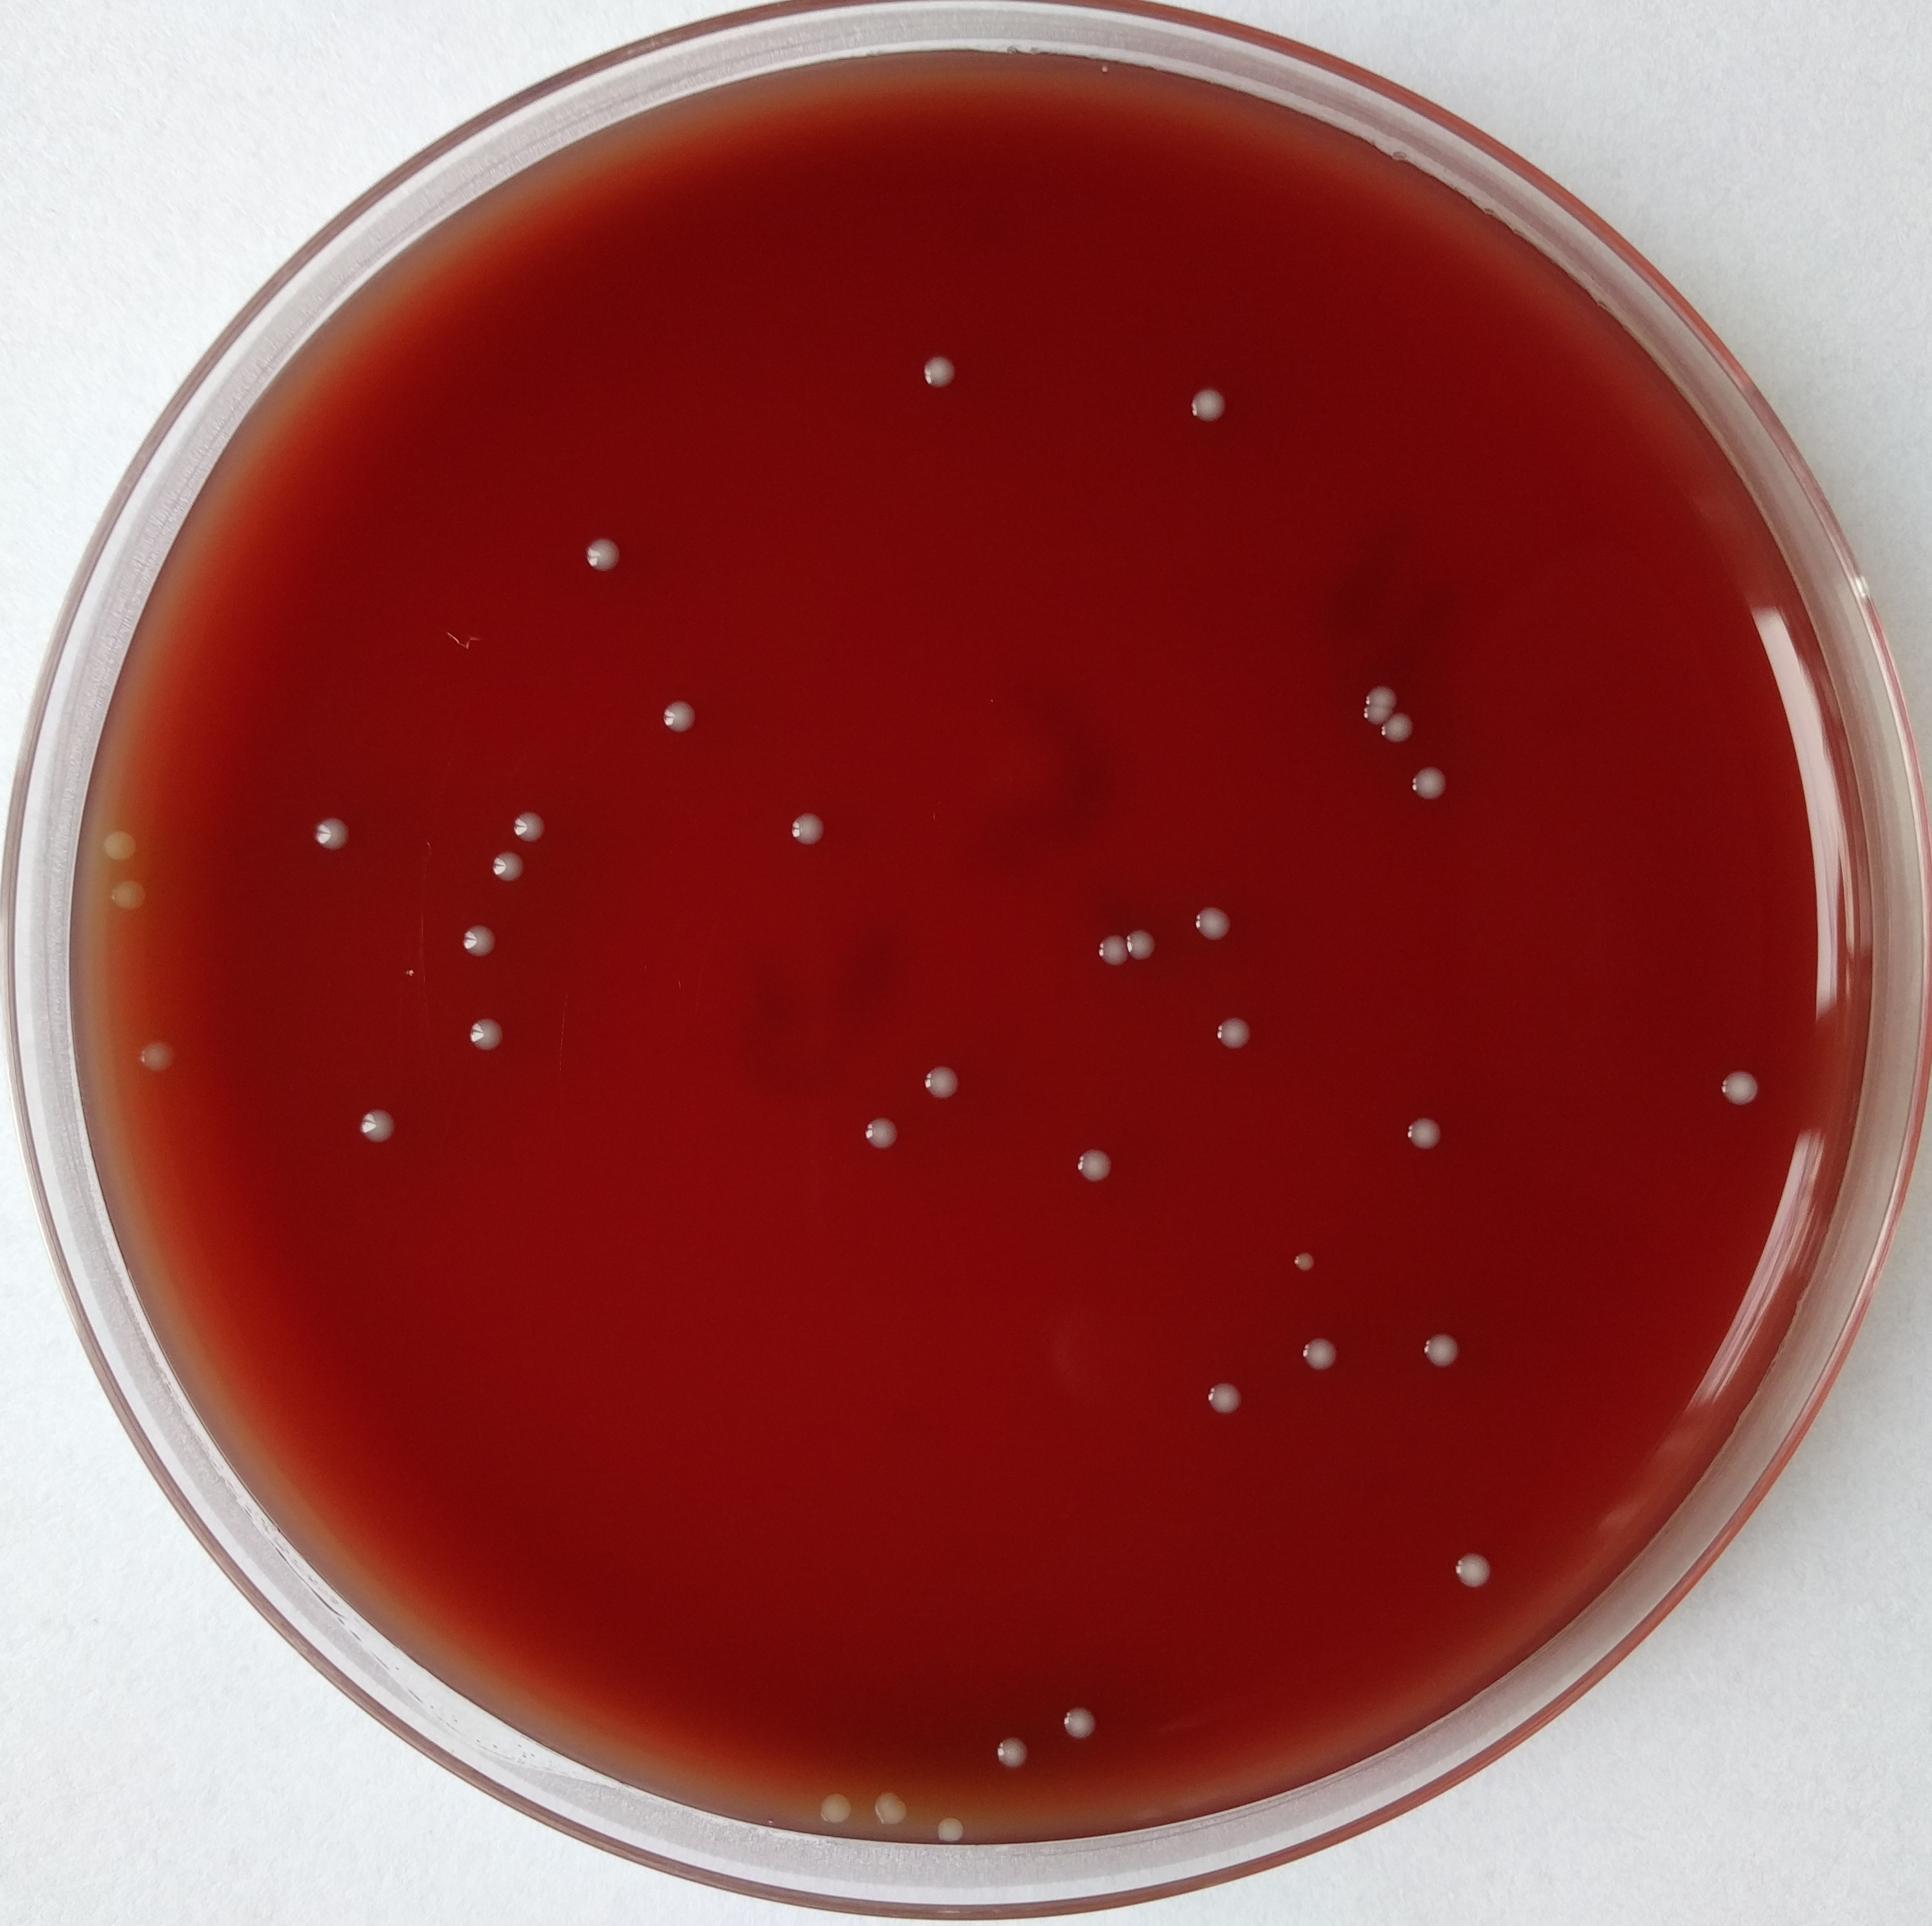sp24: (1060, 1131, 1133, 1199), (1052, 1690, 1120, 1755), (907, 332, 967, 404), (776, 802, 842, 864), (453, 1004, 515, 1069), (1438, 1536, 1500, 1596), (863, 1780, 925, 1836), (850, 1102, 912, 1157), (1292, 1319, 1350, 1376), (1710, 1058, 1763, 1120), (1403, 757, 1459, 813), (1179, 901, 1239, 952), (1193, 1362, 1242, 1423), (505, 799, 561, 852), (478, 843, 538, 892), (1182, 377, 1235, 432), (568, 536, 637, 577), (307, 804, 355, 861), (910, 1058, 972, 1101), (450, 917, 503, 967), (99, 875, 157, 919), (805, 1778, 854, 1829), (1212, 1007, 1258, 1062), (351, 1102, 409, 1145), (651, 690, 700, 739), (1390, 1111, 1443, 1157), (1417, 1326, 1468, 1372), (985, 1732, 1037, 1776), (1087, 921, 1133, 970), (95, 820, 145, 864), (1355, 667, 1404, 707), (134, 1032, 180, 1074), (1378, 705, 1417, 751), (937, 1795, 970, 1848), (1122, 922, 1159, 970), (1355, 693, 1397, 730), (1281, 1240, 1318, 1279)
